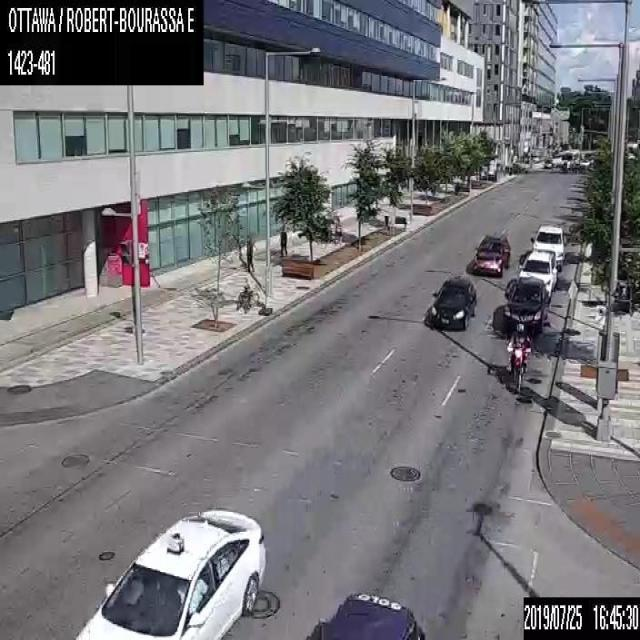pedestrian: (244, 235, 254, 272), (279, 223, 287, 256)
vehicle: (74, 506, 266, 638), (306, 588, 424, 639), (428, 274, 477, 329), (501, 278, 548, 334), (516, 249, 556, 300), (505, 320, 530, 393), (471, 231, 509, 276), (530, 224, 566, 271)
